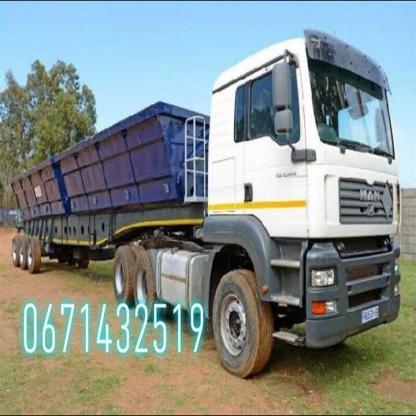dump_truck: (9, 20, 408, 376)
